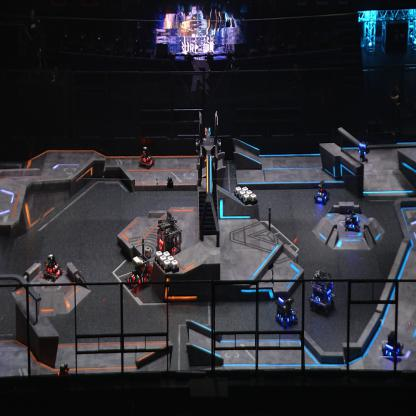car: (309, 269, 336, 313), (156, 216, 182, 258), (125, 253, 151, 292), (380, 329, 404, 363), (275, 295, 298, 328), (54, 362, 76, 392), (43, 253, 63, 281), (138, 146, 155, 170), (313, 180, 330, 204), (344, 209, 360, 232)
